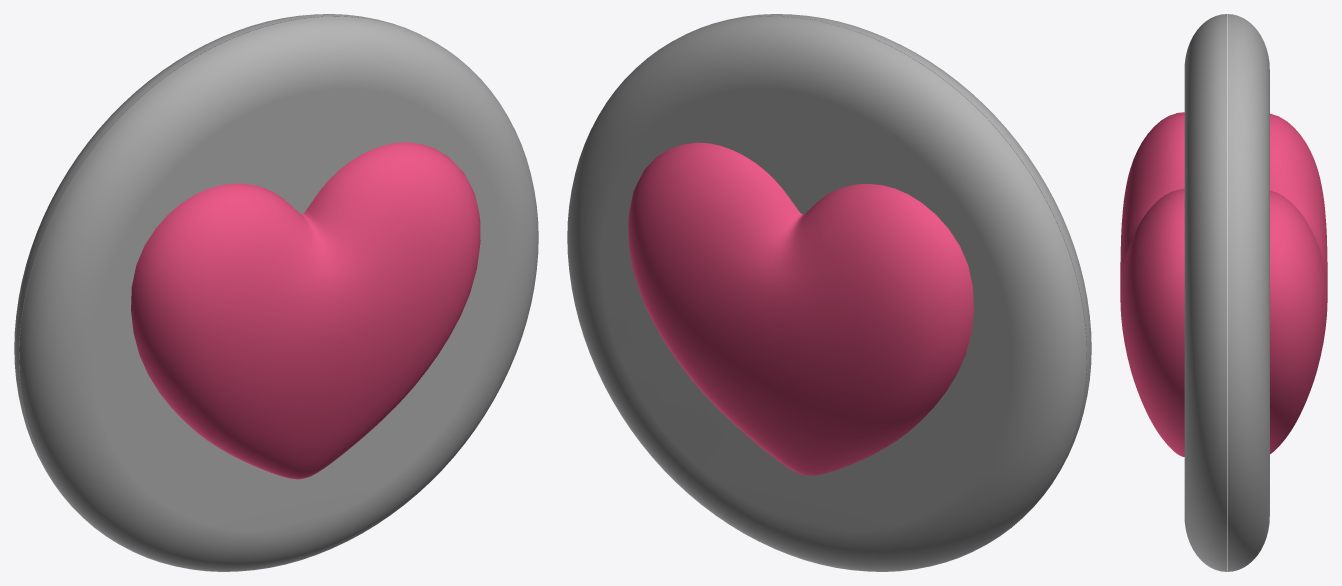
The model's file is adore.glb.
3 views of the same model, side by side, from view 1: azimuth 30°, elevation 25°; view 2: azimuth 150°, elevation 25°; view 3: azimuth 270°, elevation 25° (orthographic). The views are drawn at different scales.
Visible parts, largest first — view 1: Object_2.001, BASE HEART_Material #41_0.001; view 2: Object_2.001, BASE HEART_Material #41_0; view 3: Object_2.001, BASE HEART_Material #41_0.001, BASE HEART_Material #41_0.
Part boxes in pixels (<box>): Object_2.001: <box>14,14,538,571</box>; BASE HEART_Material #41_0.001: <box>131,142,480,479</box>; Object_2.001: <box>567,14,1091,571</box>; BASE HEART_Material #41_0: <box>628,142,973,475</box>; Object_2.001: <box>1184,14,1269,571</box>; BASE HEART_Material #41_0.001: <box>1120,112,1184,456</box>; BASE HEART_Material #41_0: <box>1270,113,1327,453</box>.
Size of the model in its own units: 23.19 by 23.19 by 8.62.
